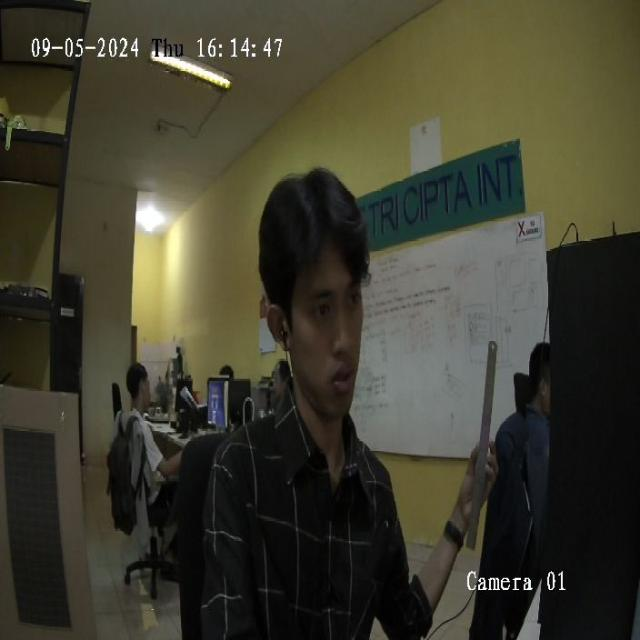Ruler: (467, 340, 497, 549)
